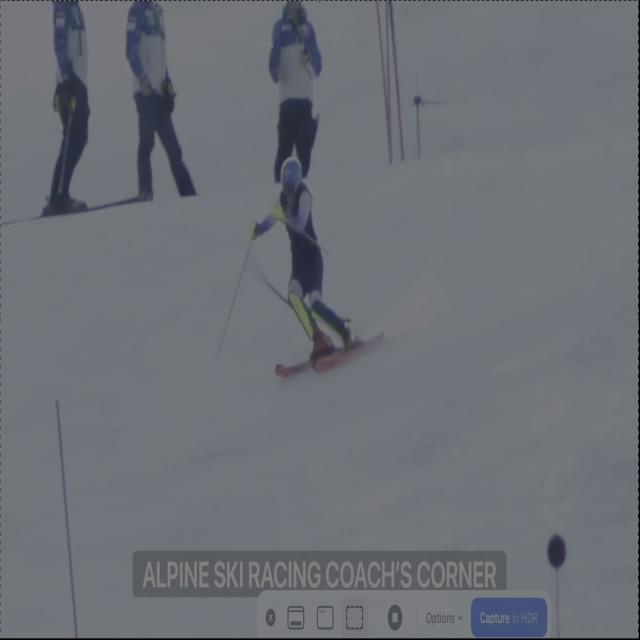gate: (43, 386, 92, 640)
